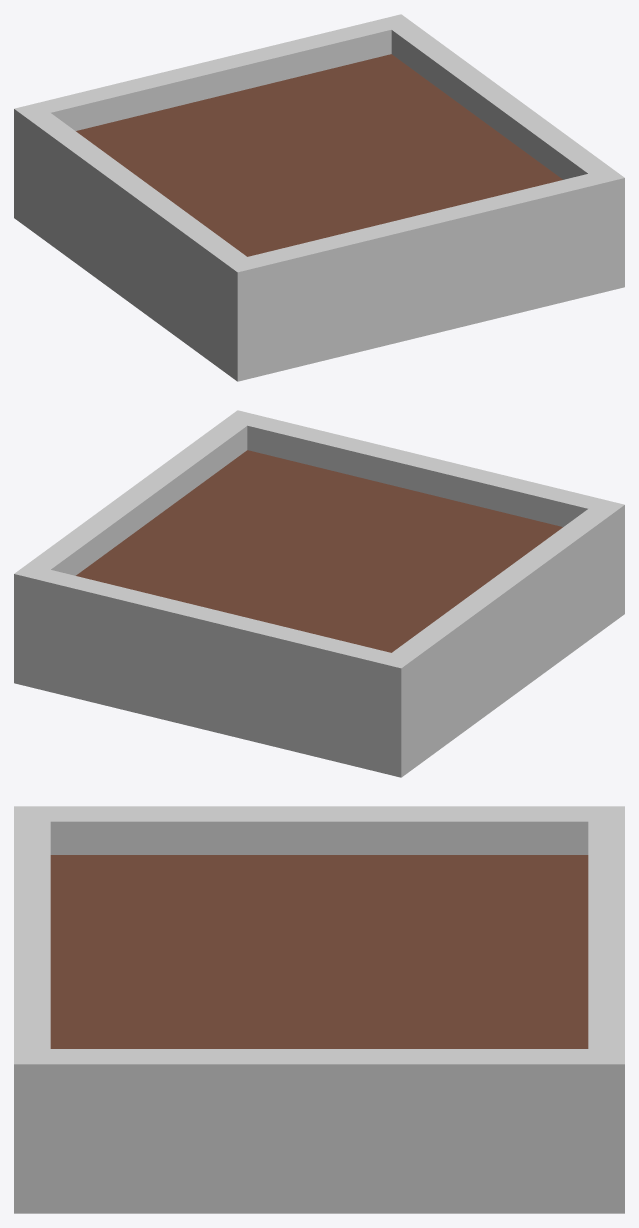
The model's file is 树木基座.fbx.
3 renders of one model, top to bottom at view 1: azimuth 30°, elevation 25°; view 2: azimuth 150°, elevation 25°; view 3: azimuth 270°, elevation 25°, orthographic. The views are drawn at different scales.
Parts seen in each view (by area): view 1: Cube; view 2: Cube; view 3: Cube.
Boxes of the visible parts, x1,y1,x2,y2 form: Cube: (14,14,624,381); Cube: (14,410,624,777); Cube: (14,806,624,1213).
Bounding box in the file's own units: 4.2 × 1.13 × 4.2.
